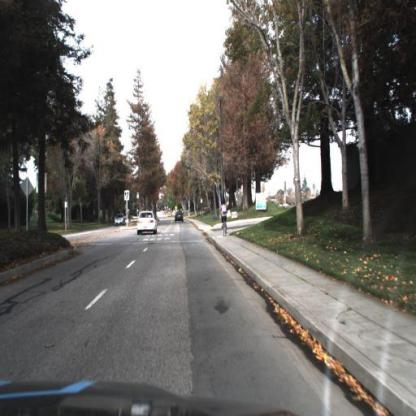biker: (221, 199, 230, 240), (220, 199, 229, 236)
car: (137, 211, 156, 235), (114, 213, 128, 227), (175, 210, 184, 223)
